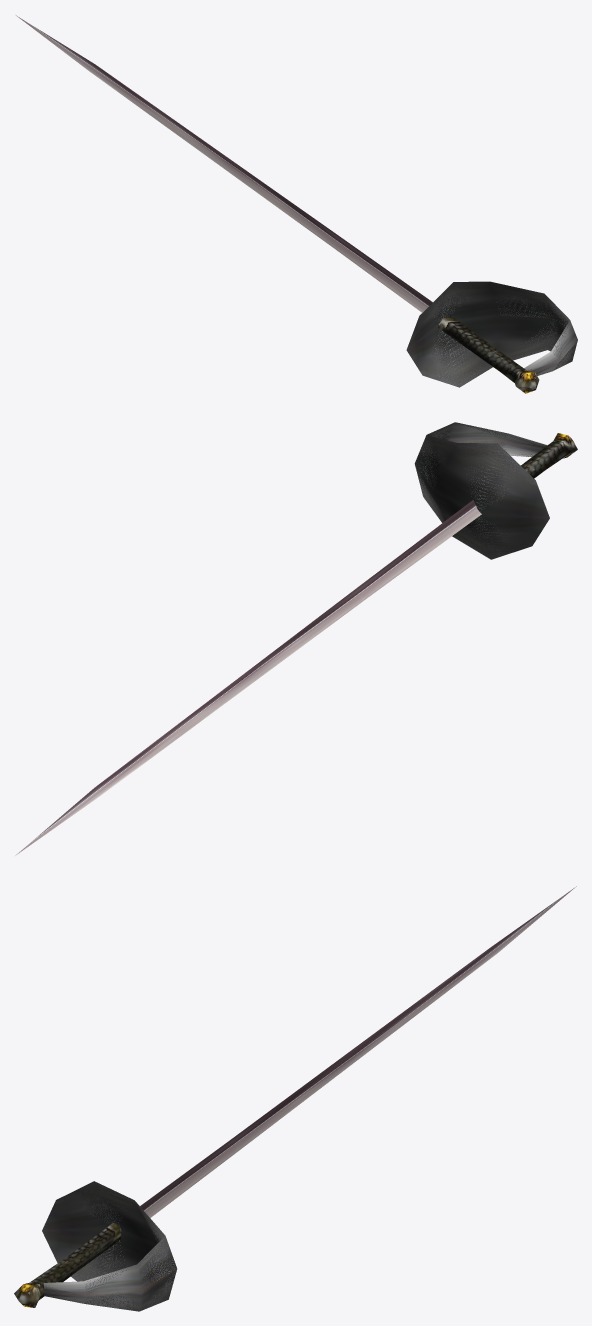
Rendered from pir_m_hnd_swd_epee_a.fbx.
The picture shows the model from 3 angles, top to bottom: view 1: azimuth 30°, elevation 25°; view 2: azimuth 150°, elevation 25°; view 3: azimuth 330°, elevation 25°; orthographic projection. The views are drawn at different scales.
Parts seen in each view (by area): view 1: guard_inside, blade, grip, guard_outside; view 2: guard_inside, blade, guard_outside, grip; view 3: guard_inside, blade, grip, guard_outside.
Part boxes in pixels (left/top/right/bottom): guard_inside: left=406, top=281, right=577, bottom=387; blade: left=16, top=15, right=450, bottom=324; grip: left=438, top=318, right=539, bottom=393; guard_outside: left=420, top=282, right=575, bottom=385; guard_inside: left=414, top=422, right=549, bottom=559; blade: left=15, top=500, right=481, bottom=855; guard_outside: left=416, top=423, right=544, bottom=555; grip: left=521, top=433, right=577, bottom=478; guard_inside: left=42, top=1181, right=176, bottom=1311; blade: left=118, top=886, right=576, bottom=1241; grip: left=14, top=1223, right=121, bottom=1307; guard_outside: left=44, top=1185, right=176, bottom=1310.
Bounding box in the file's own units: 56.25 × 42.61 × 370.
1 material, 1 textured.
